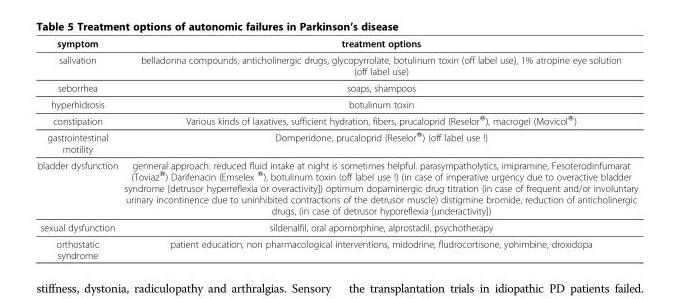table: (36, 37, 637, 260)
table column: (120, 37, 637, 260), (36, 37, 120, 260)
table column header: (36, 37, 637, 51)
table row: (36, 156, 637, 218), (36, 51, 637, 79), (36, 128, 637, 156), (36, 235, 637, 260), (36, 111, 637, 128), (36, 218, 637, 235), (36, 79, 637, 95), (36, 95, 637, 111), (36, 37, 637, 51)
